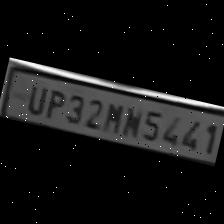1: (197, 119, 222, 156)
2: (80, 94, 107, 130)
3: (60, 90, 88, 126)
4: (176, 114, 204, 150), (158, 110, 184, 147)
5: (136, 105, 165, 143)
M: (98, 97, 126, 135)
N: (117, 101, 144, 140)
P: (42, 84, 68, 122)
U: (22, 81, 48, 116)
